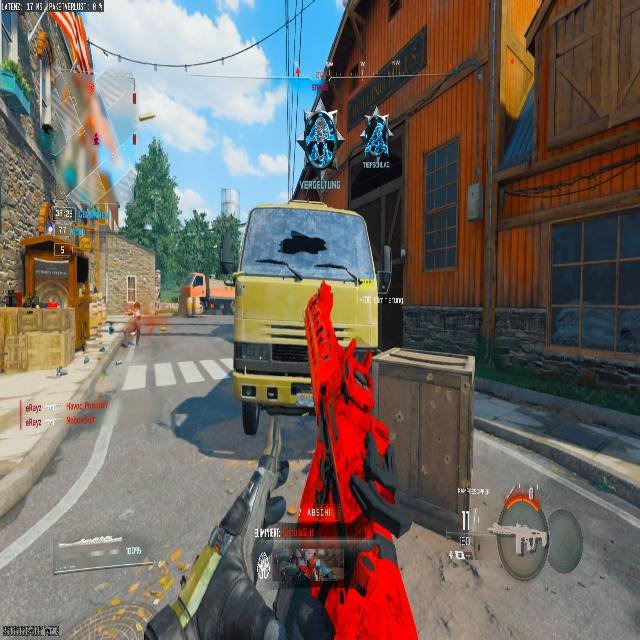player: (298, 94, 342, 182), (125, 301, 146, 346)
